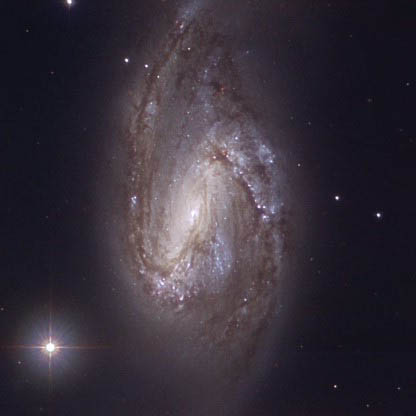Messier 66: (31, 7, 314, 412)
